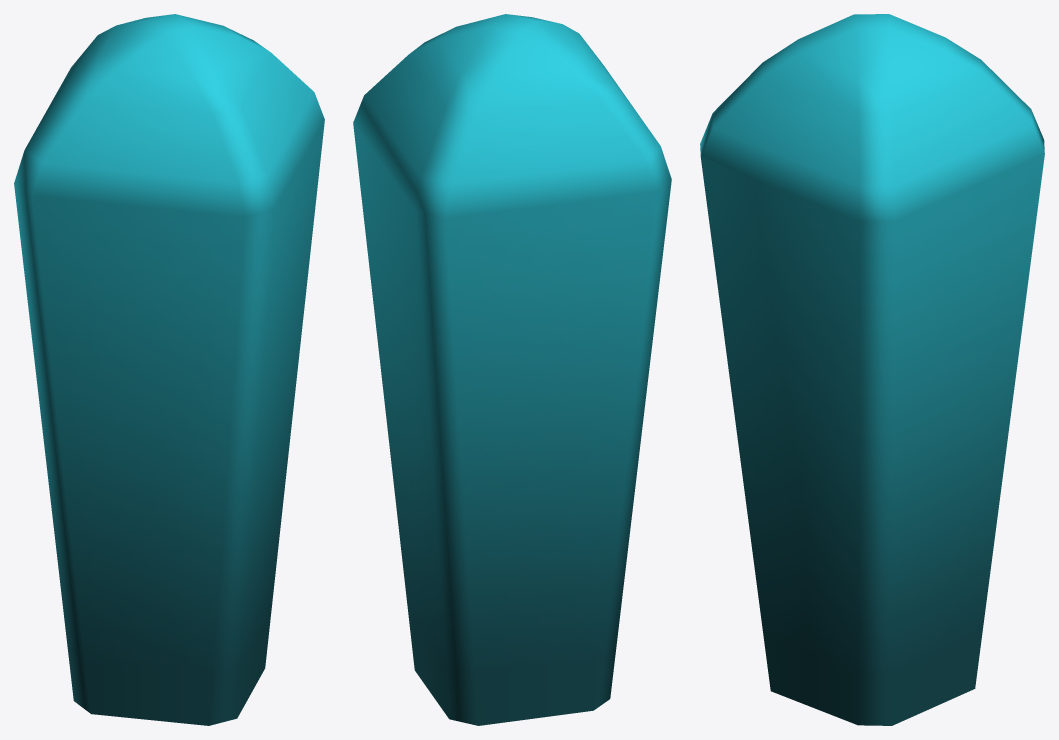
File: Trial Crystal.fbx
The picture shows the model from 3 angles, left to right: view 1: azimuth 30°, elevation 25°; view 2: azimuth 150°, elevation 25°; view 3: azimuth 270°, elevation 25°; orthographic projection.
Parts seen in each view (by area): view 1: pCube6; view 2: pCube6; view 3: pCube6.
Part boxes in pixels (x1=…): pCube6: x1=14, y1=14, x2=324, y2=725; pCube6: x1=353, y1=14, x2=671, y2=725; pCube6: x1=700, y1=14, x2=1044, y2=725.
Size of the model in its own units: 53.03 by 112 by 53.03.
Materials: 1 (1 with a texture image).
